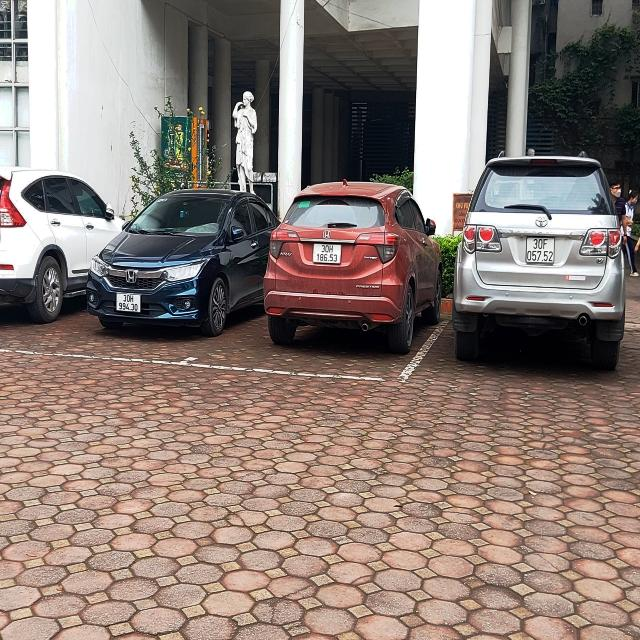license_plate: (527, 239, 555, 264), (313, 245, 342, 264), (117, 294, 142, 313)
